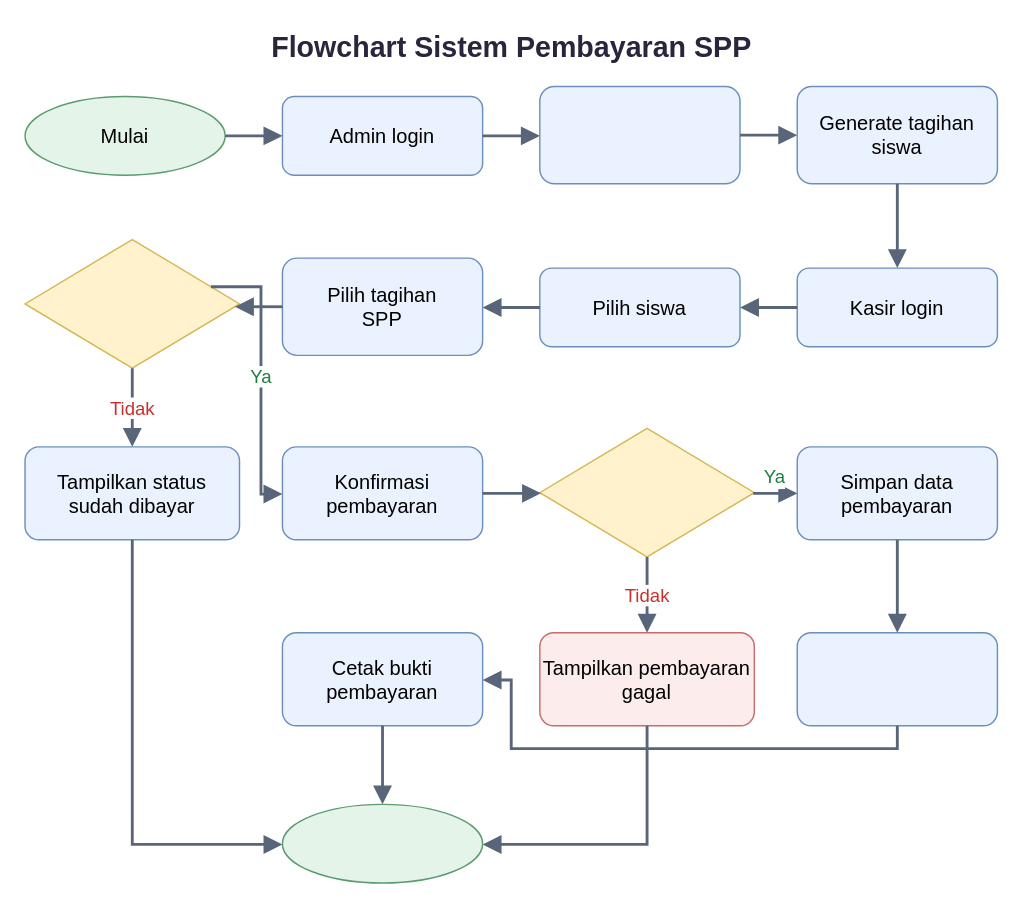
Some shapes in this 1022 by 908 pixel diagram are drawn without their labels. The box of each missing label's shape, as (x1, y1, x2, y2) in pixels:
Atur tahun ajaran dan tarif SPP: (538, 85, 740, 184)
Pembayaran berhasil?: (538, 427, 754, 557)
Perbarui status tagihan menjadi lunas: (796, 631, 997, 726)
Selesai: (281, 803, 483, 883)
Tagihan belum dibayar?: (24, 238, 240, 368)
